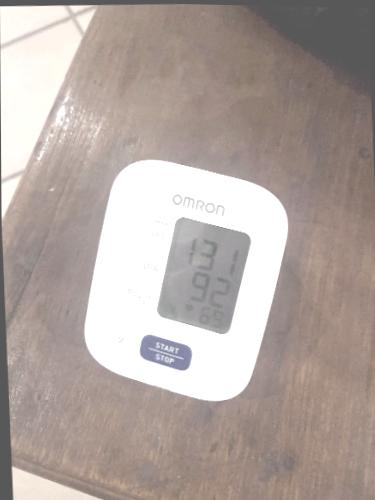bpm: (152, 215, 253, 338)
